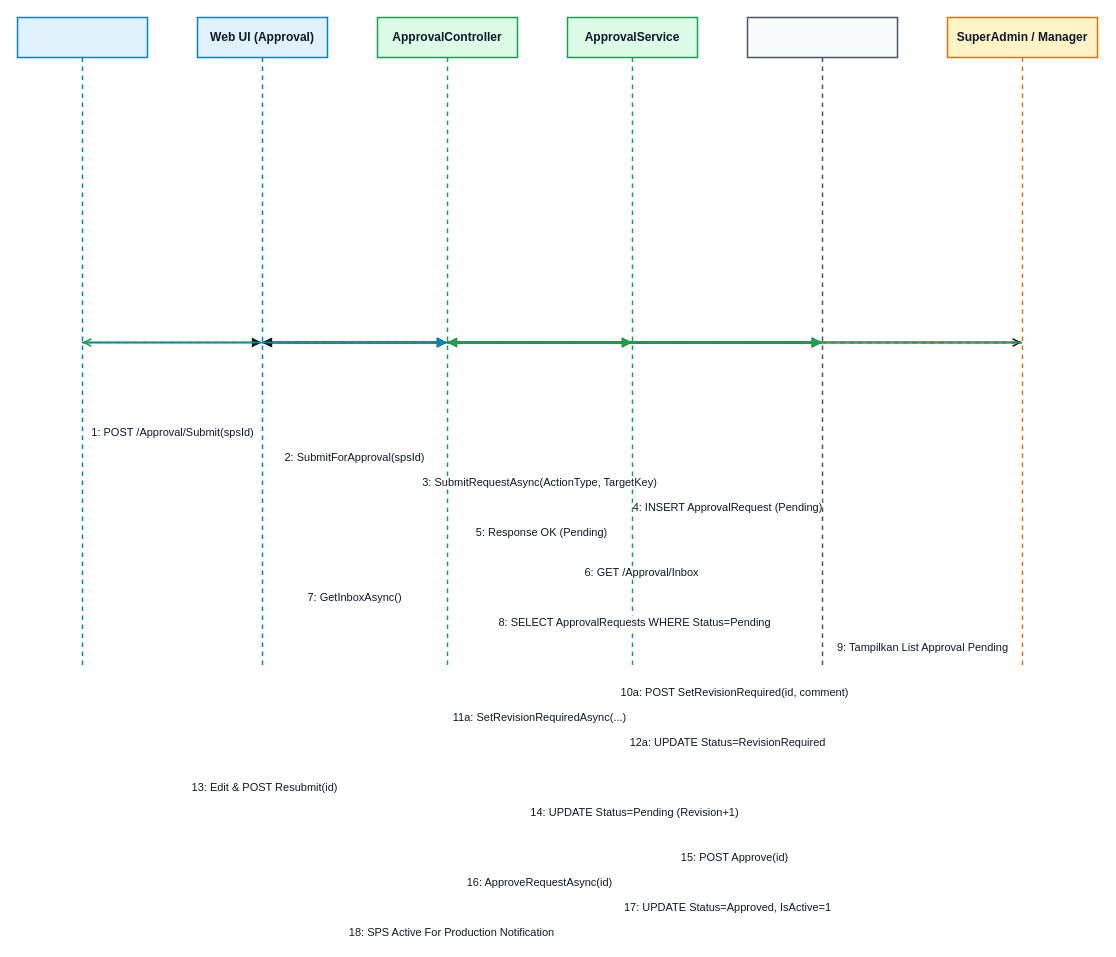
Image size: 1116x957. Some labels were removed from this diagram. The box of each missing label's shape, as (x1, y1, x2, y2) in pixels:
Admin Engineering: (16, 16, 148, 668)
ApplicationDbContext: (746, 16, 898, 668)
